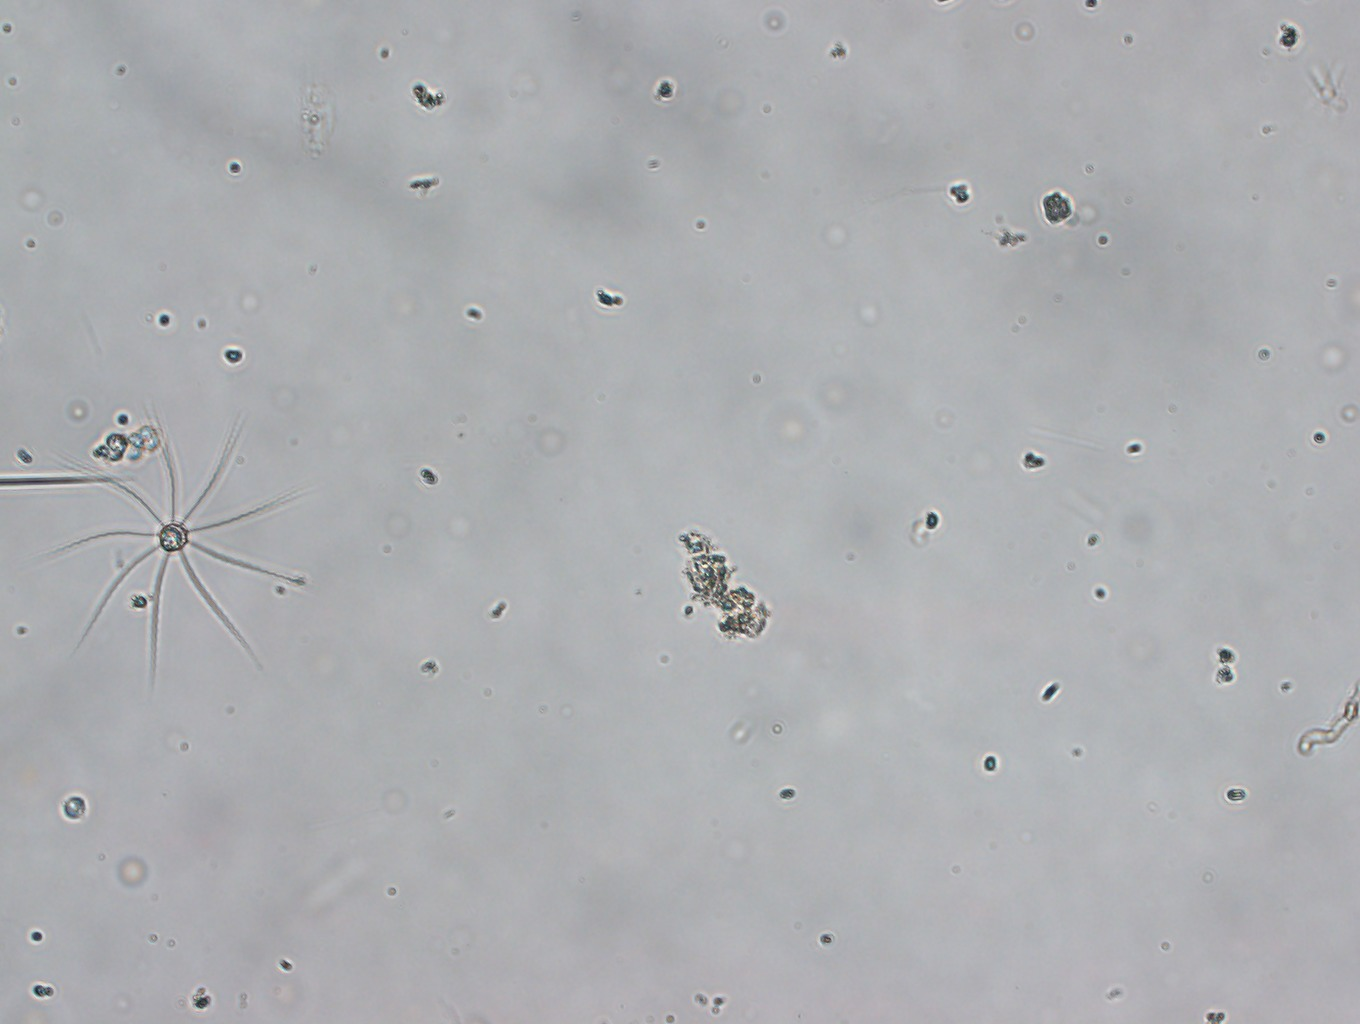bacteriastrum: (53, 425, 330, 684)
